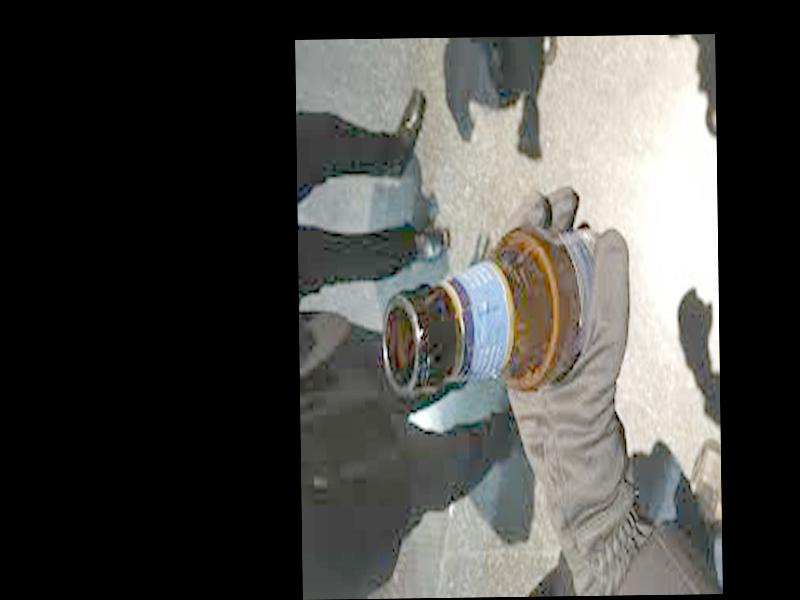Beer: (380, 217, 616, 399)
